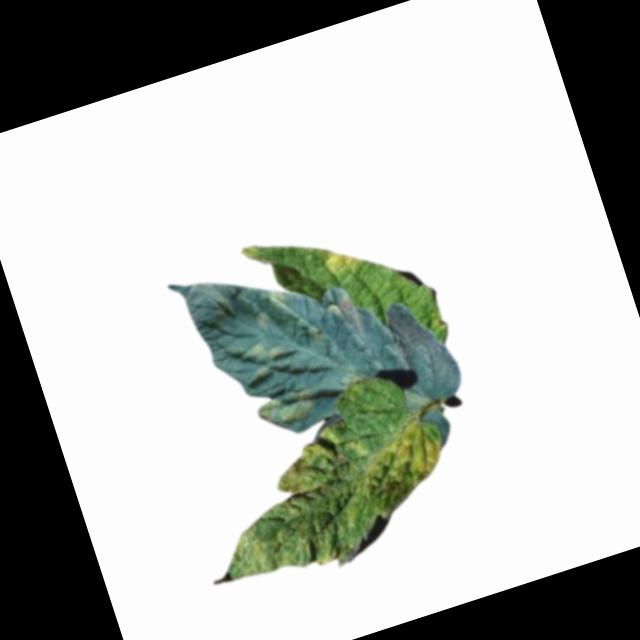Leaf_Mold: (191, 391, 468, 598), (251, 381, 319, 433), (239, 334, 298, 385), (320, 237, 372, 280), (325, 292, 366, 338)
